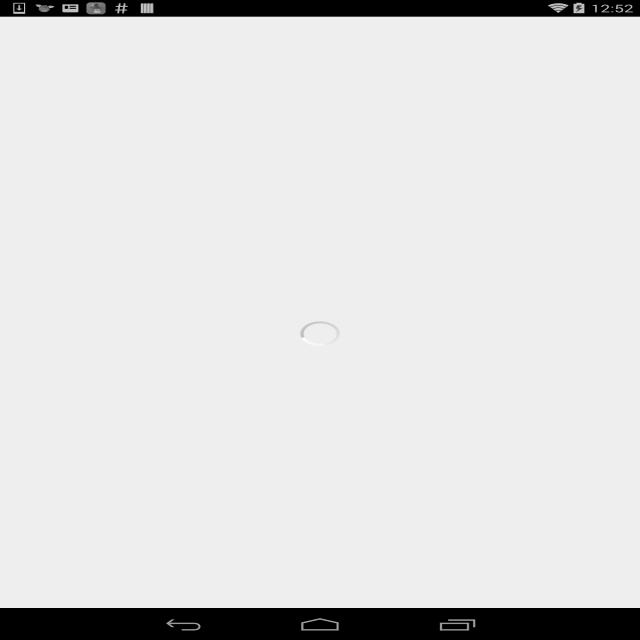Button: (170, 406, 264, 472), (273, 406, 367, 472), (376, 406, 470, 472), (478, 406, 572, 472), (454, 352, 614, 376)
ImageButton: (0, 17, 60, 59)
ImageView: (0, 59, 640, 254), (0, 589, 455, 640), (26, 270, 196, 377), (459, 589, 640, 640), (280, 406, 360, 455), (383, 406, 462, 455), (486, 406, 564, 455), (60, 30, 224, 46), (291, 536, 317, 552), (323, 536, 349, 552), (589, 270, 614, 286), (222, 312, 239, 323), (242, 464, 250, 469)
TextView: (0, 490, 640, 537), (0, 558, 640, 576), (222, 270, 589, 295), (222, 295, 415, 309), (589, 22, 640, 54), (68, 455, 162, 472), (273, 455, 367, 472), (376, 455, 470, 472), (478, 455, 572, 472), (498, 380, 614, 392), (397, 380, 485, 392), (184, 455, 238, 472), (199, 415, 236, 437), (100, 420, 130, 440), (245, 311, 283, 325), (90, 443, 140, 452)
